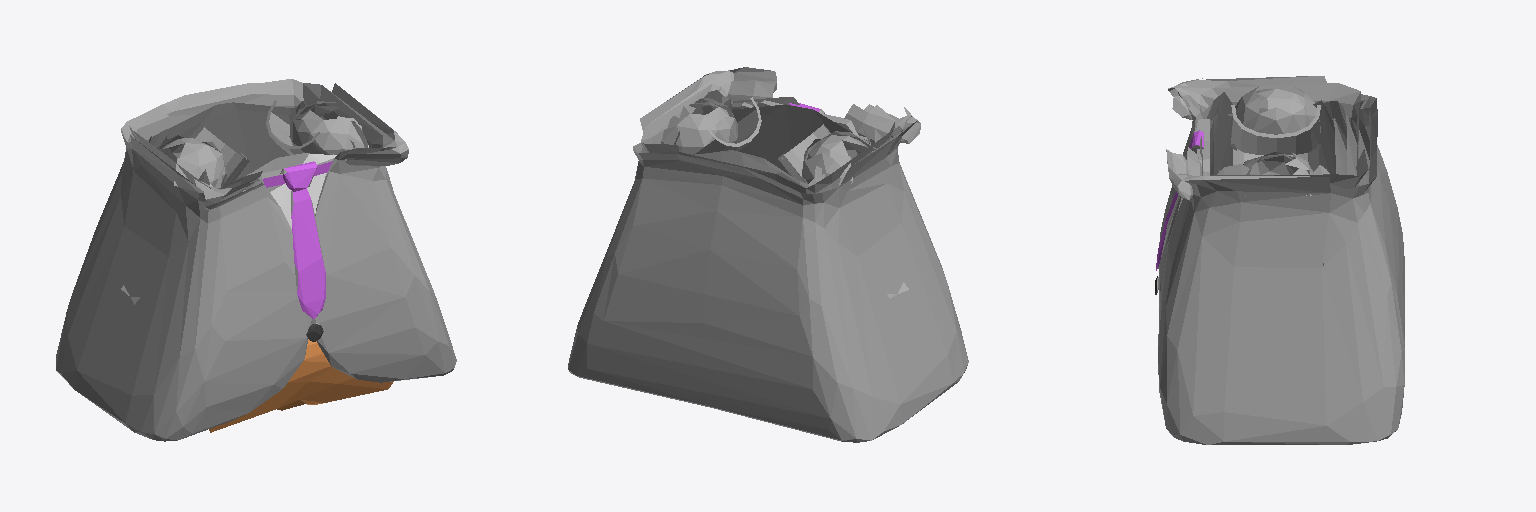
3 renders of one model, left to right at view 1: azimuth 30°, elevation 25°; view 2: azimuth 150°, elevation 25°; view 3: azimuth 270°, elevation 25°, orthographic.
Parts seen in each view (by area): view 1: Body; view 2: Body; view 3: Body.
Boxes of the visible parts, x1,y1,x2,y2 form: Body: [56, 79, 456, 441]; Body: [568, 67, 968, 442]; Body: [1155, 76, 1404, 444].
Bounding box in the file's own units: 2.85 × 2.27 × 1.95.
1 materials, 1 textured.